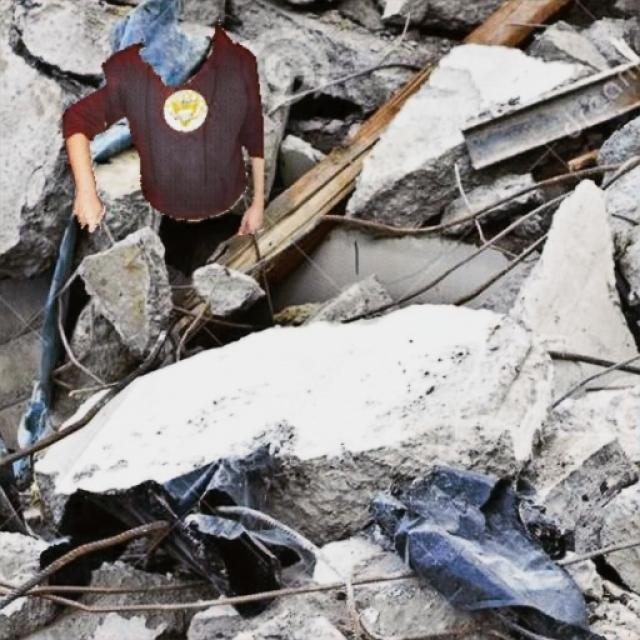Person in Rubble: (62, 18, 262, 234)
